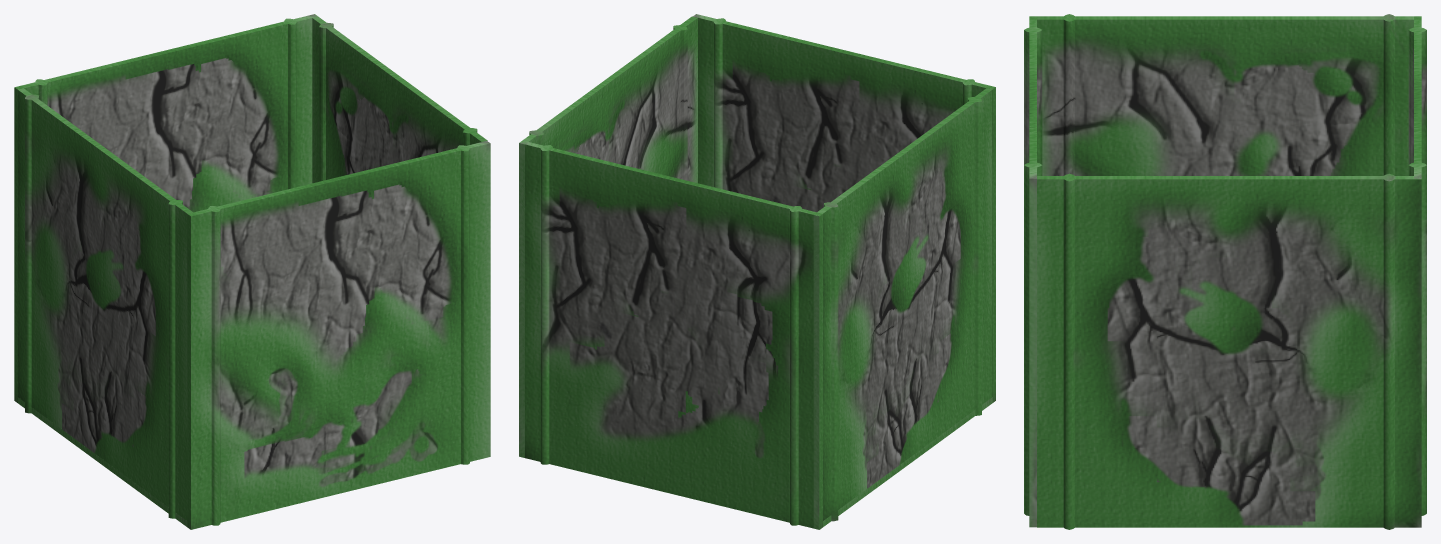
Rendered from Model_Bg_Wallmaria.fbx.
3 views of the same model, side by side, from view 1: azimuth 30°, elevation 25°; view 2: azimuth 150°, elevation 25°; view 3: azimuth 270°, elevation 25° (orthographic). The views are drawn at different scales.
Visible parts, largest first — view 1: pCube10; view 2: pCube10; view 3: pCube10.
Boxes of the visible parts, <box> form: pCube10: <box>14,14,490,529</box>; pCube10: <box>519,14,995,529</box>; pCube10: <box>1024,14,1426,529</box>.
Size of the model in its own units: 51.52 by 50.02 by 52.4.
